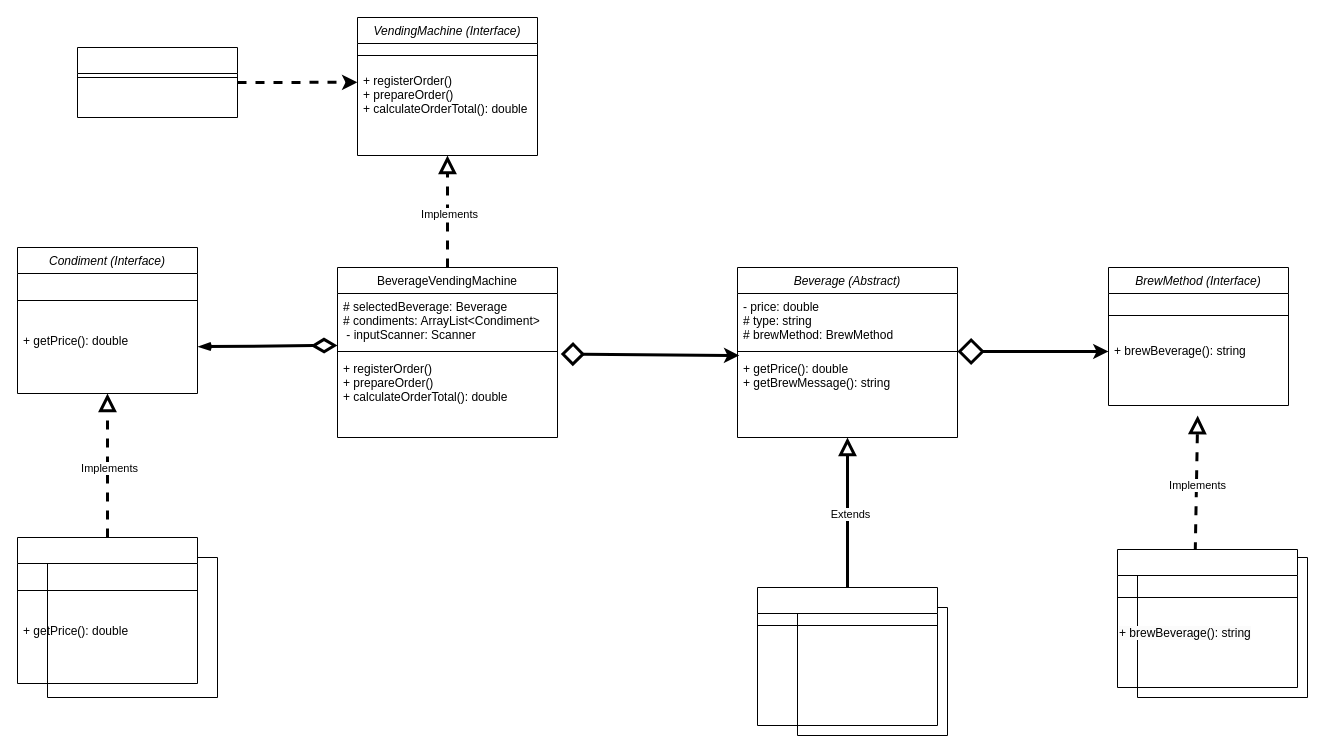
The diagram is 1325 pixels wide and 753 high, and some of its shapes have lost their labels. The centre of each missing label's shape, as x and y in pixels:
"Americano" goes at point 847,656.
"Main (Executable Class)" goes at point 157,82.
"Milk" goes at point 107,610.
"PullCoffee" goes at point 1207,618.
